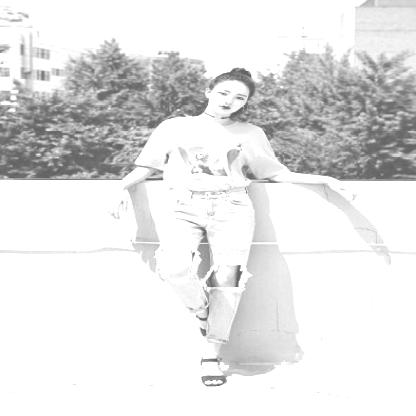dress: (141, 120, 281, 190)
